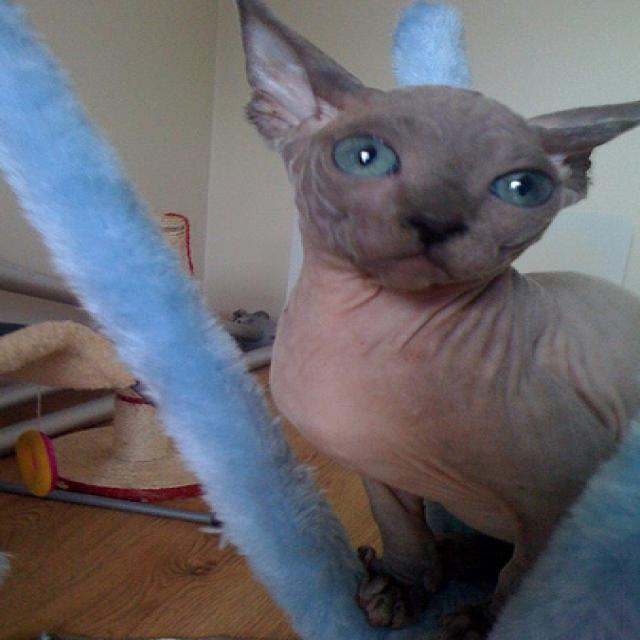Sphynx: (225, 0, 640, 640)
